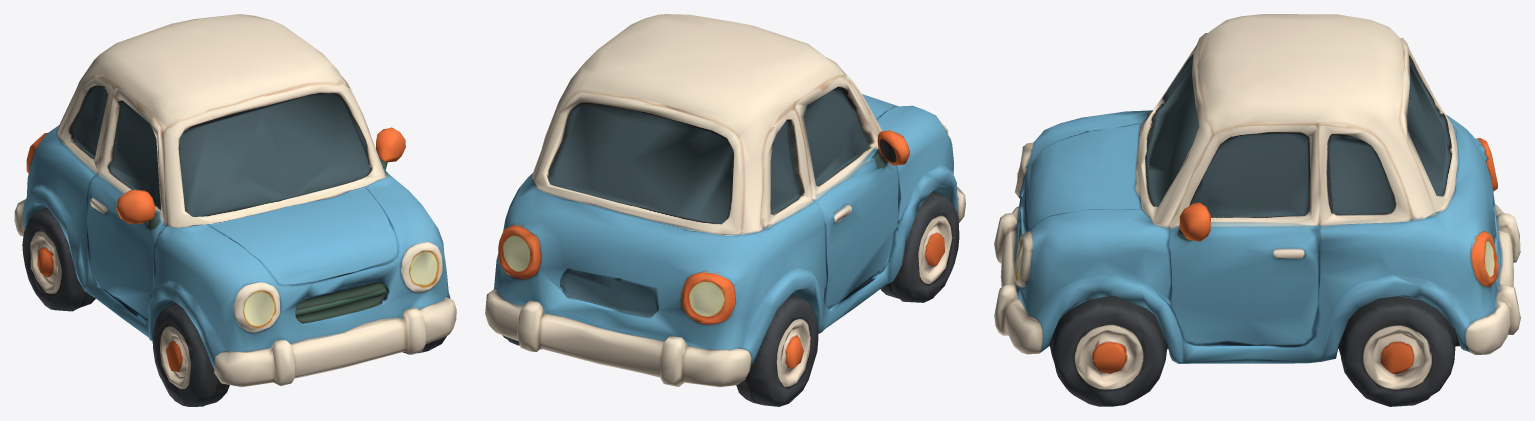
The model's file is car.glb.
3 views of the same model, side by side, from view 1: azimuth 30°, elevation 25°; view 2: azimuth 150°, elevation 25°; view 3: azimuth 270°, elevation 25° (orthographic). The views are drawn at different scales.
Visible parts, largest first — view 1: tripo_node_be731c76-1b11-4543-9263-710f546261dc; view 2: tripo_node_be731c76-1b11-4543-9263-710f546261dc; view 3: tripo_node_be731c76-1b11-4543-9263-710f546261dc.
Boxes of the visible parts, box(x1,y1,x2,y2) form: tripo_node_be731c76-1b11-4543-9263-710f546261dc: box(14, 14, 456, 406); tripo_node_be731c76-1b11-4543-9263-710f546261dc: box(485, 14, 965, 406); tripo_node_be731c76-1b11-4543-9263-710f546261dc: box(994, 14, 1520, 406).
Bounding box in the file's own units: 0.6803 × 0.6116 × 0.9809.
Materials: 1 (1 with a texture image).
